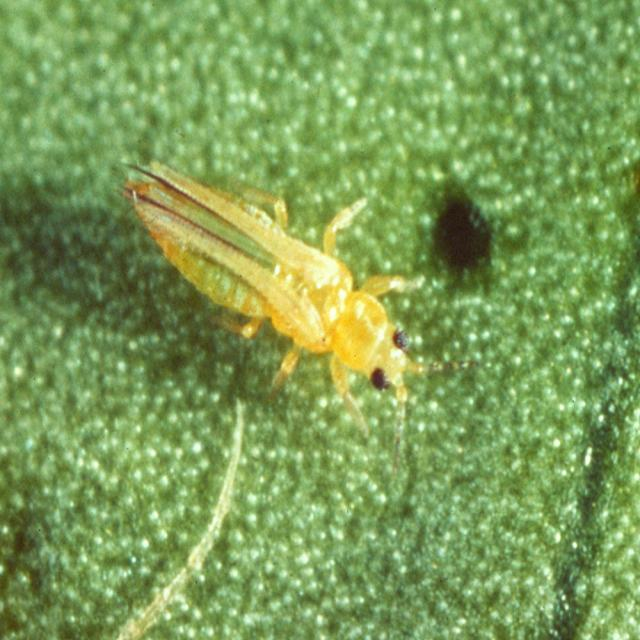Thrip-Adult-: (78, 122, 453, 420)
